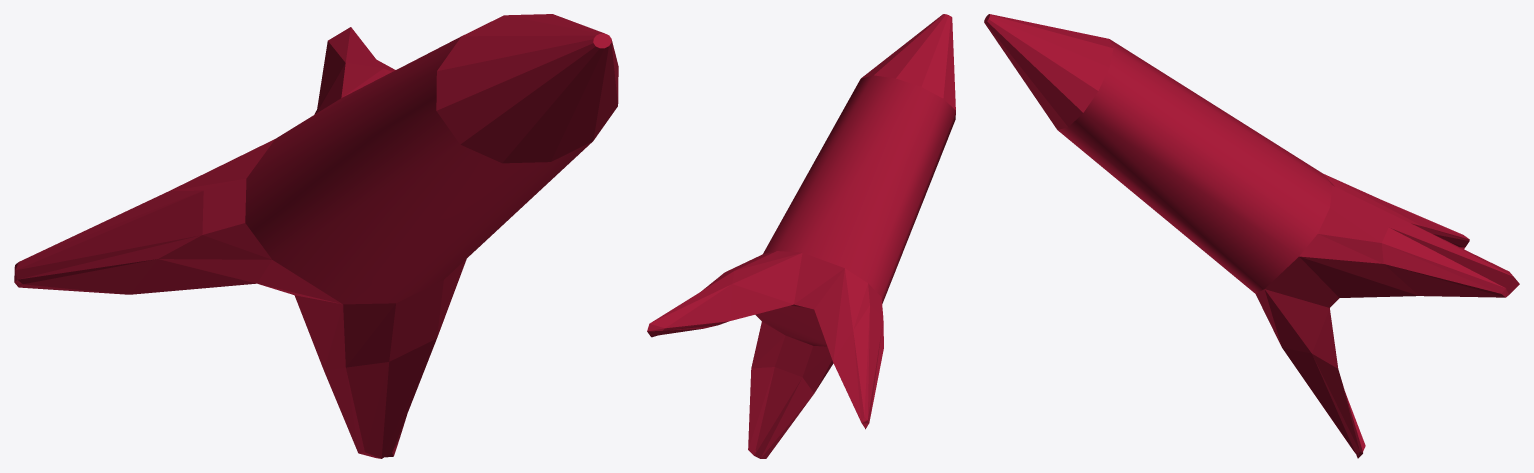
Rendered from cohete.FBX.
The picture shows the model from 3 angles, left to right: view 1: azimuth 30°, elevation 25°; view 2: azimuth 150°, elevation 25°; view 3: azimuth 270°, elevation 25°; orthographic projection. The views are drawn at different scales.
Parts seen in each view (by area): view 1: Cylinder003; view 2: Cylinder003; view 3: Cylinder003.
Part boxes in pixels (x1,y1,x2,y2): Cylinder003: (14,14,618,458); Cylinder003: (647,14,955,458); Cylinder003: (984,14,1519,458).
Bounding box in the file's own units: 26.89 × 44.16 × 51.19.
